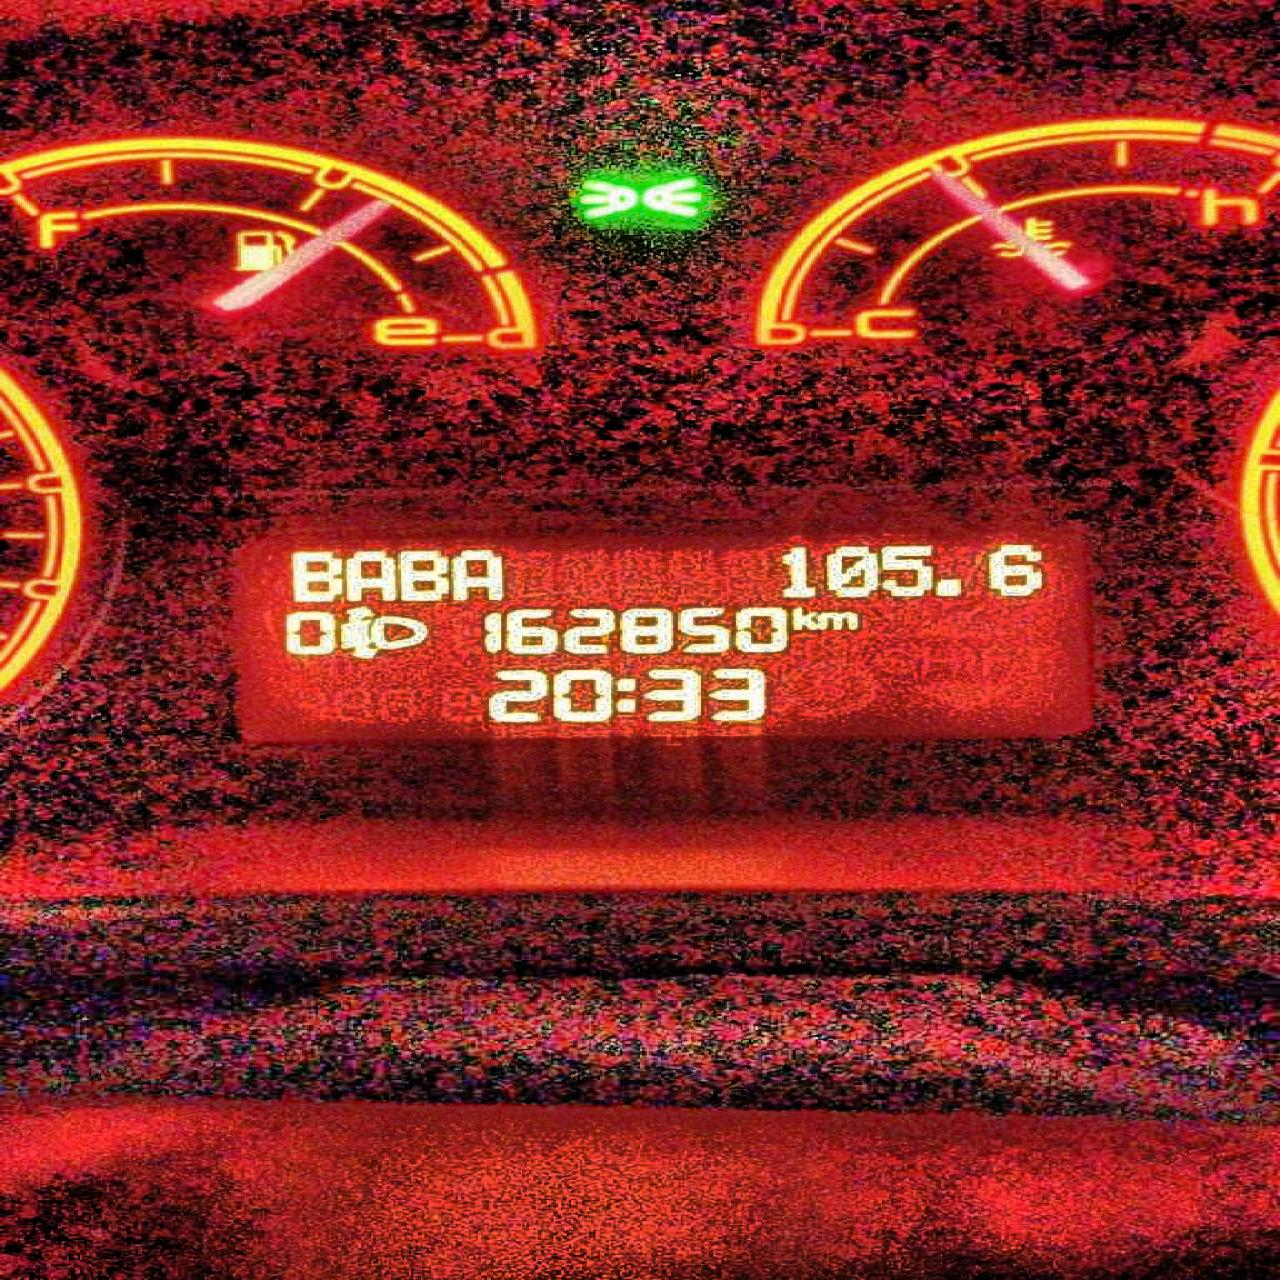-: (933, 576, 965, 600)
0: (547, 667, 610, 722), (821, 543, 878, 598), (280, 606, 338, 655), (731, 605, 787, 653)
1: (776, 544, 817, 598), (481, 610, 501, 655)
2: (484, 667, 545, 722), (560, 605, 615, 655)
3: (640, 667, 702, 722), (709, 667, 769, 722)
5: (878, 543, 931, 598), (675, 605, 731, 654)
6: (985, 542, 1044, 599), (502, 606, 558, 655)
8: (618, 605, 672, 654)
X: (340, 547, 396, 602), (395, 546, 449, 601), (287, 547, 342, 601), (449, 546, 502, 600), (611, 675, 638, 716), (816, 607, 860, 631), (789, 604, 816, 632)
odometer: (200, 518, 1109, 754)
